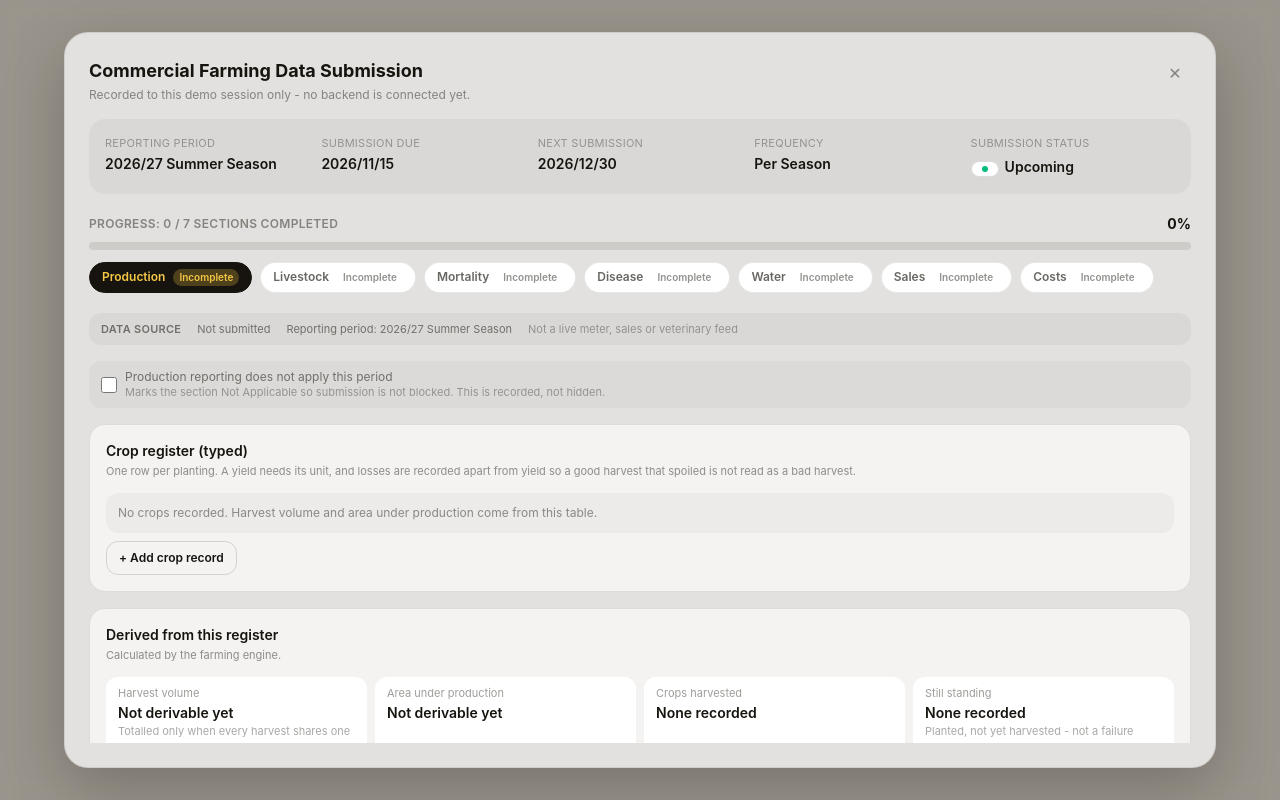
Test: FarmingSubmitDataModal › refuses an incomplete submission and names the section
Step 1. Click the button "Costs Incomplete" → (1087, 277), box [1020, 262, 1154, 293]
(page scrolled)
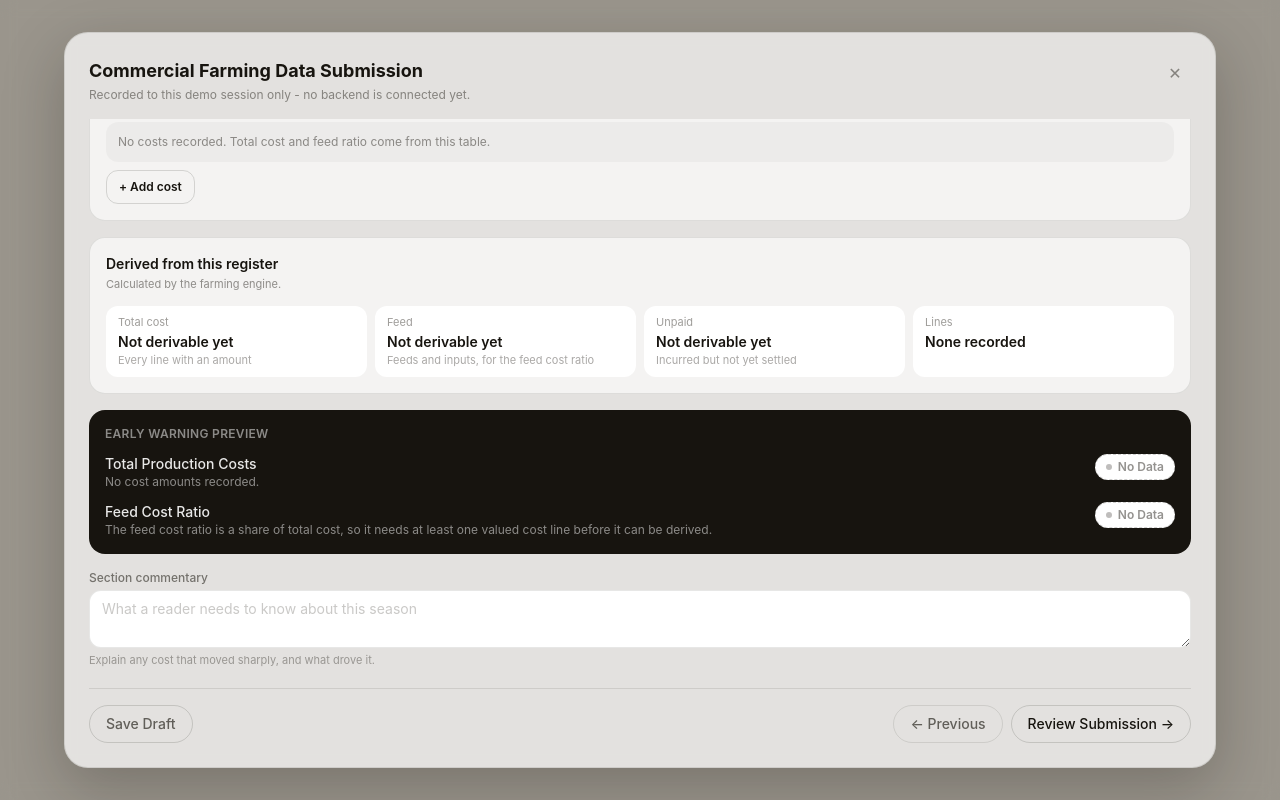
Step 2. Click the button "Review Submission →" → (1101, 724), box [1011, 705, 1191, 743]
(page scrolled)
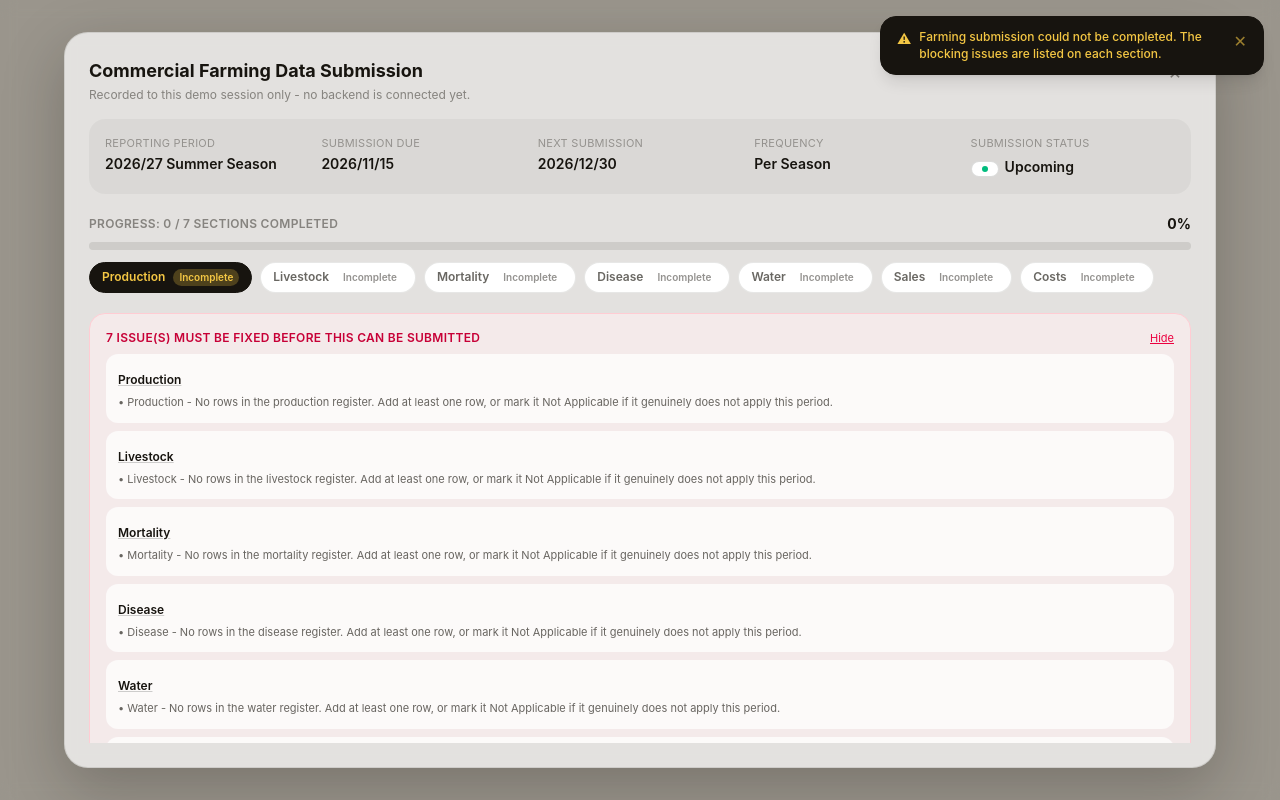
Now the text "7 issue(s) must be fixed before this can be submitted" is shown, box [106, 330, 480, 346]
Now the list item "No rows in the production register" is shown, box [127, 395, 833, 409]
